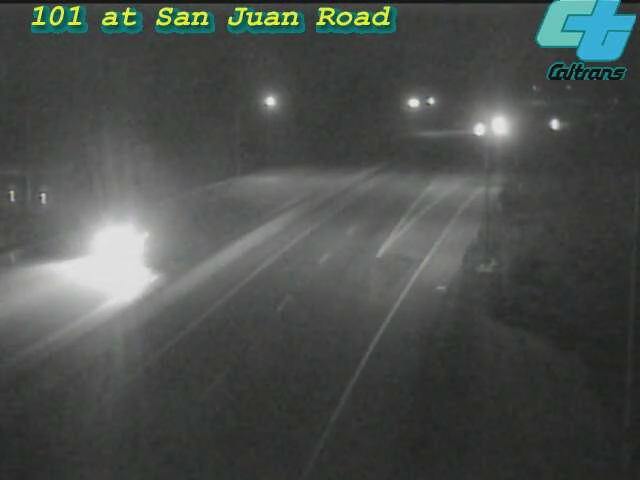vehicle: (65, 206, 145, 286), (530, 100, 580, 150), (453, 104, 503, 154), (474, 100, 524, 150)
